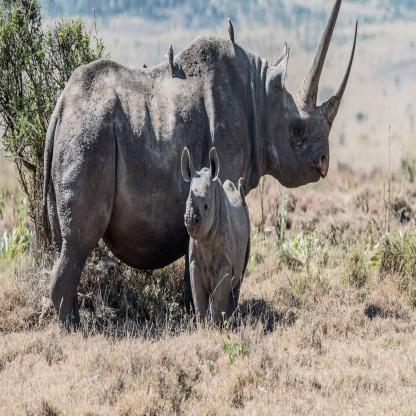Diceros bicornis: (39, 0, 359, 337), (180, 146, 251, 334)
